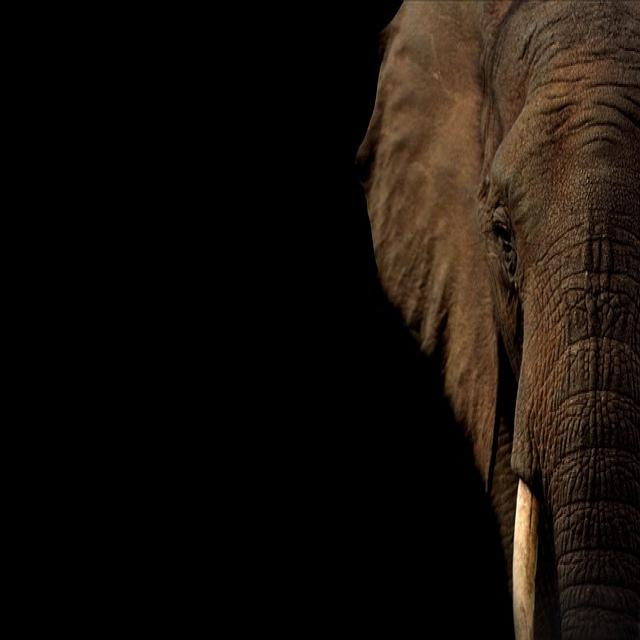Herbivorous: (353, 0, 640, 640)
